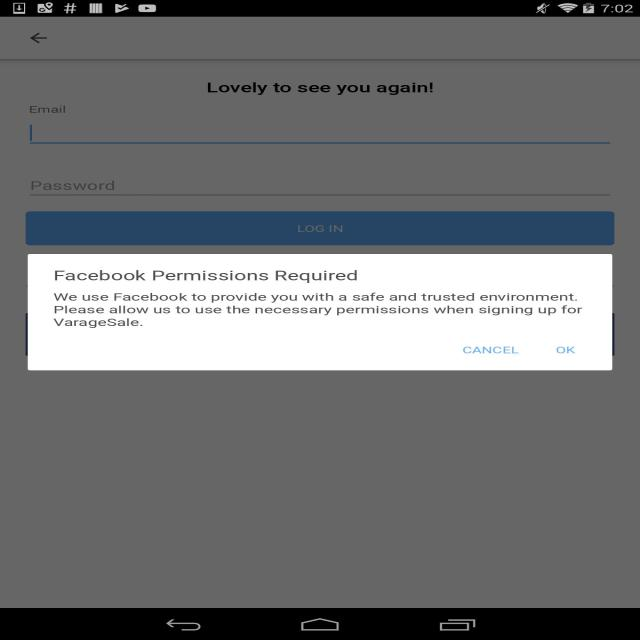button: (27, 212, 615, 245), (457, 341, 522, 358), (545, 341, 587, 358), (26, 29, 52, 45)
field: (28, 102, 609, 143), (29, 160, 612, 195)
heading: (54, 268, 360, 284), (204, 78, 438, 96)
label: (30, 178, 119, 193), (28, 103, 68, 115)
text: (50, 292, 584, 329)
